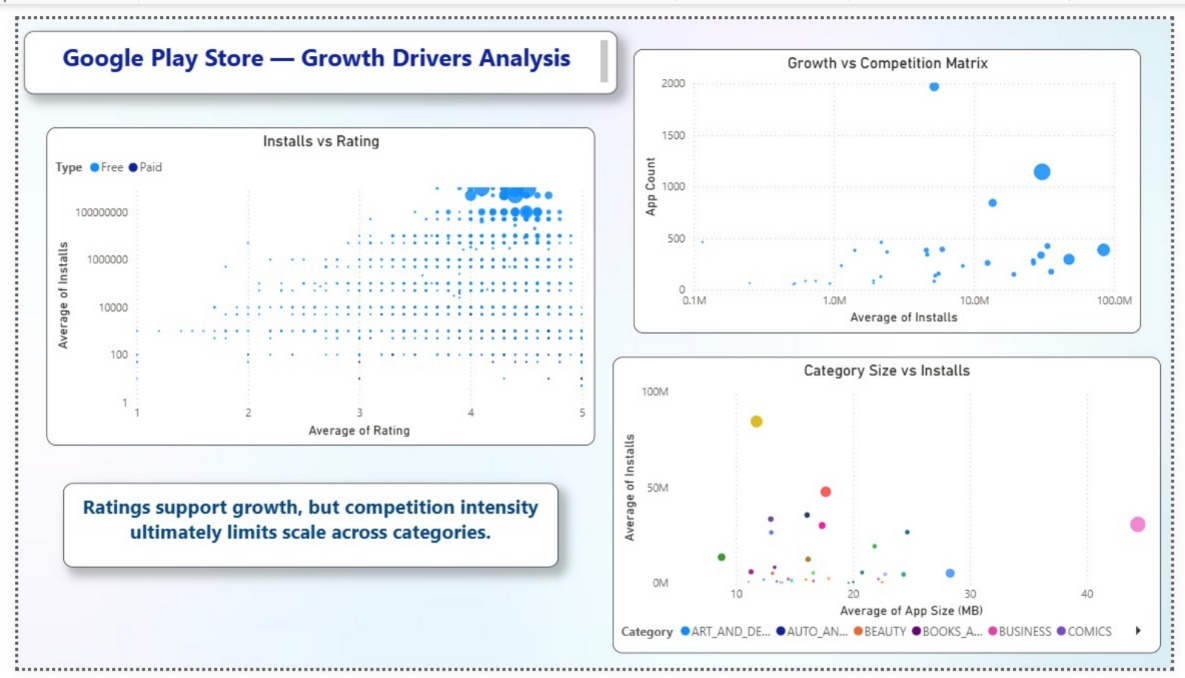

The dashboard page shown, as its layout file describes it:
{"tool":"powerbi","page":{"name":"Growth Drivers Analysis","canvas":[1280,720],"ordinal":1},"visuals":[{"type":"textbox","box":[6.7,13.3,658.3,70],"z":0},{"type":"scatterChart","title":"Installs vs Rating","fields":{"X":["Avg(googleplaystore.Rating)"],"Y":["Avg(googleplaystore.Installs)"],"Size":["Sum(googleplaystore.Reviews)"],"Series":["googleplaystore.Type"],"Category":["googleplaystore.App"]},"box":[31.7,120,608.3,353.3],"z":1000},{"type":"scatterChart","title":"Category Size vs Installs","fields":{"X":["Avg(googleplaystore.App Size (MB))"],"Y":["Avg(googleplaystore.Installs)"],"Size":["Sum(googleplaystore.Reviews)"],"Series":["googleplaystore.Category"]},"box":[660,375,608.3,328.3],"z":2000},{"type":"scatterChart","title":"Growth vs Competition Matrix","fields":{"X":["Avg(googleplaystore.Installs)"],"Category":["googleplaystore.Category"],"Y":["googleplaystore.App Count"],"Size":["Sum(googleplaystore.Reviews)"]},"box":[683.3,33.3,563.3,315],"z":3000},{"type":"textbox","box":[50,515,550,93.3],"z":3001}]}

Visuals, with their boxes in screenshot pixels (x1, y1, x2, y2), scaled from the page's 1280x720 canvas onto the 1185x678 screenshot:
textbox: bbox=[6, 13, 616, 78]
"Installs vs Rating" scatterChart: bbox=[29, 113, 592, 446]
"Category Size vs Installs" scatterChart: bbox=[611, 353, 1174, 662]
"Growth vs Competition Matrix" scatterChart: bbox=[633, 31, 1154, 328]
textbox: bbox=[46, 485, 555, 573]
